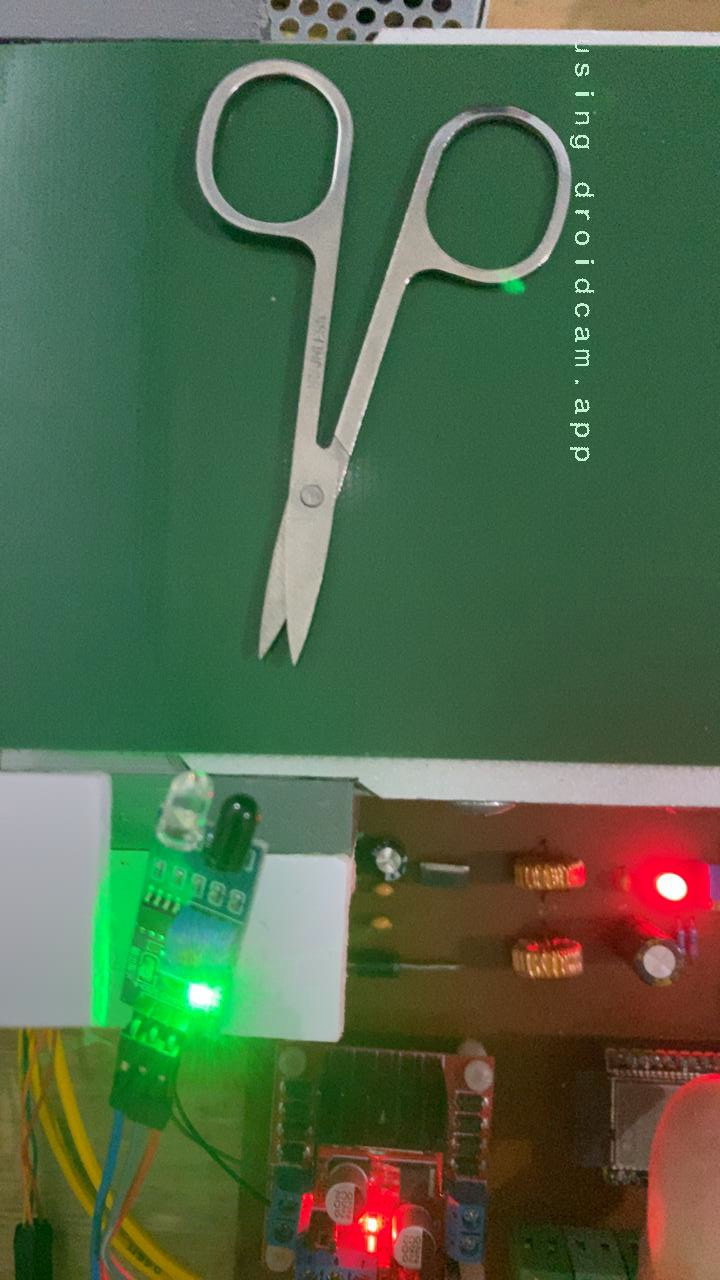scissor: (189, 52, 580, 669)
